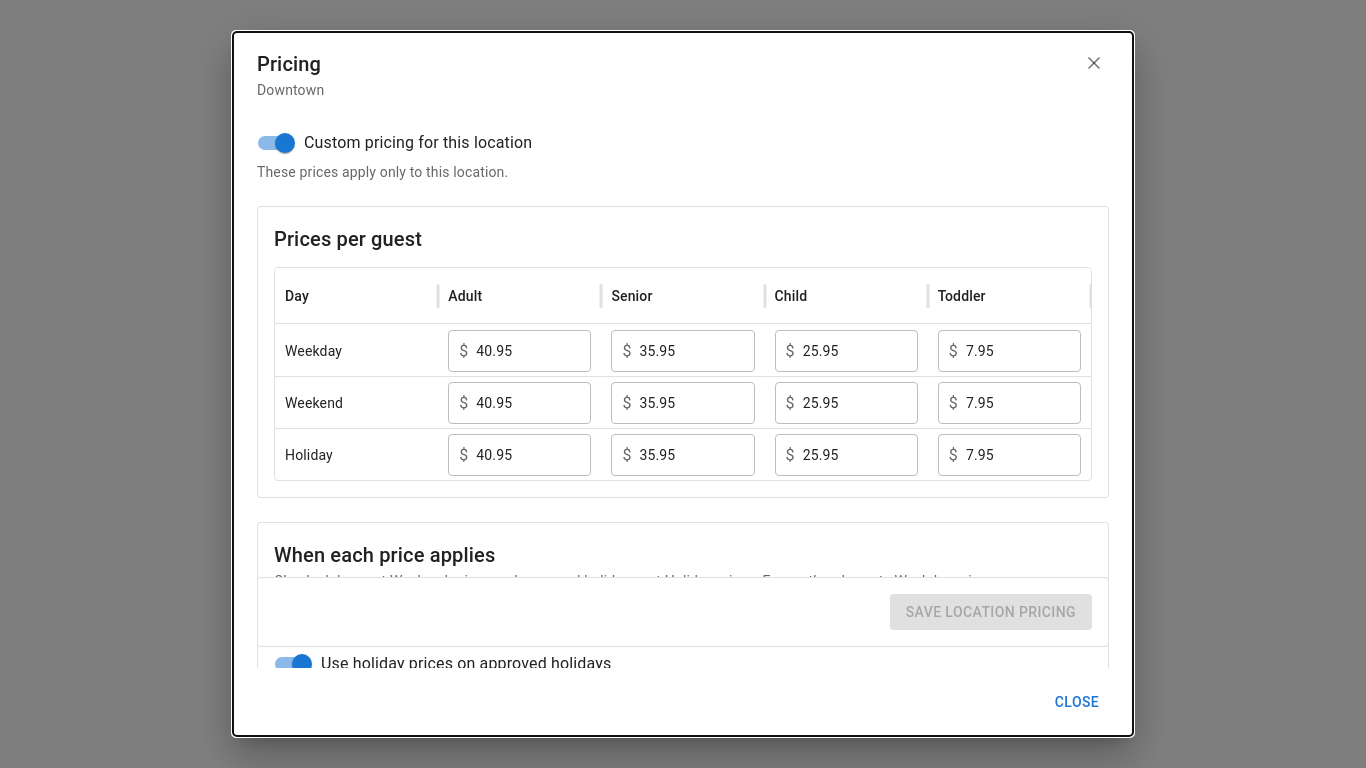
Test case: LocationPricingDialog › switching off saved custom pricing asks first, then goes back to the default
This screenshot has width=1366, height=768.
Check: the number field named "Weekday Adult price" is shown, box [476, 340, 580, 361]
Click the switch labelled "Custom pricing for this location": (395, 143) [258, 133, 532, 153]
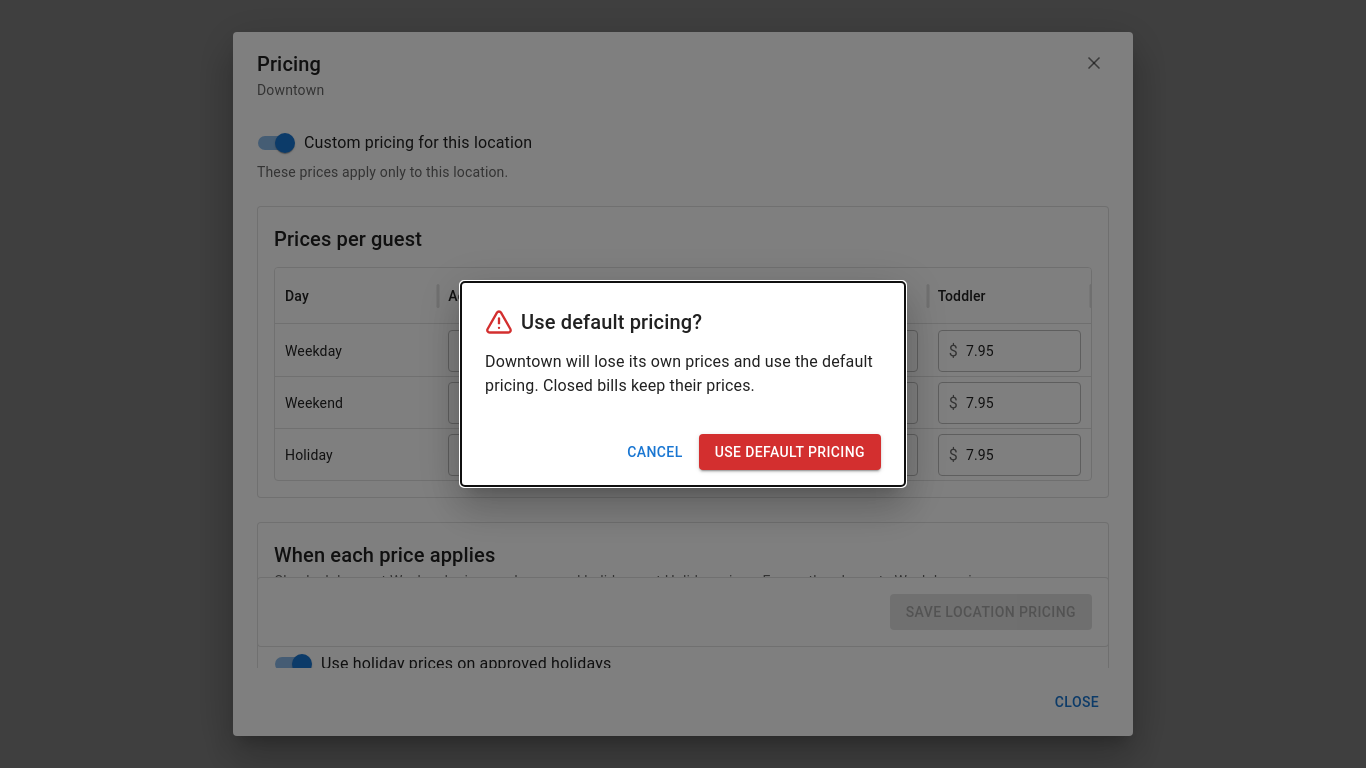
Click the button "Use default pricing": (790, 452) [699, 434, 881, 470]
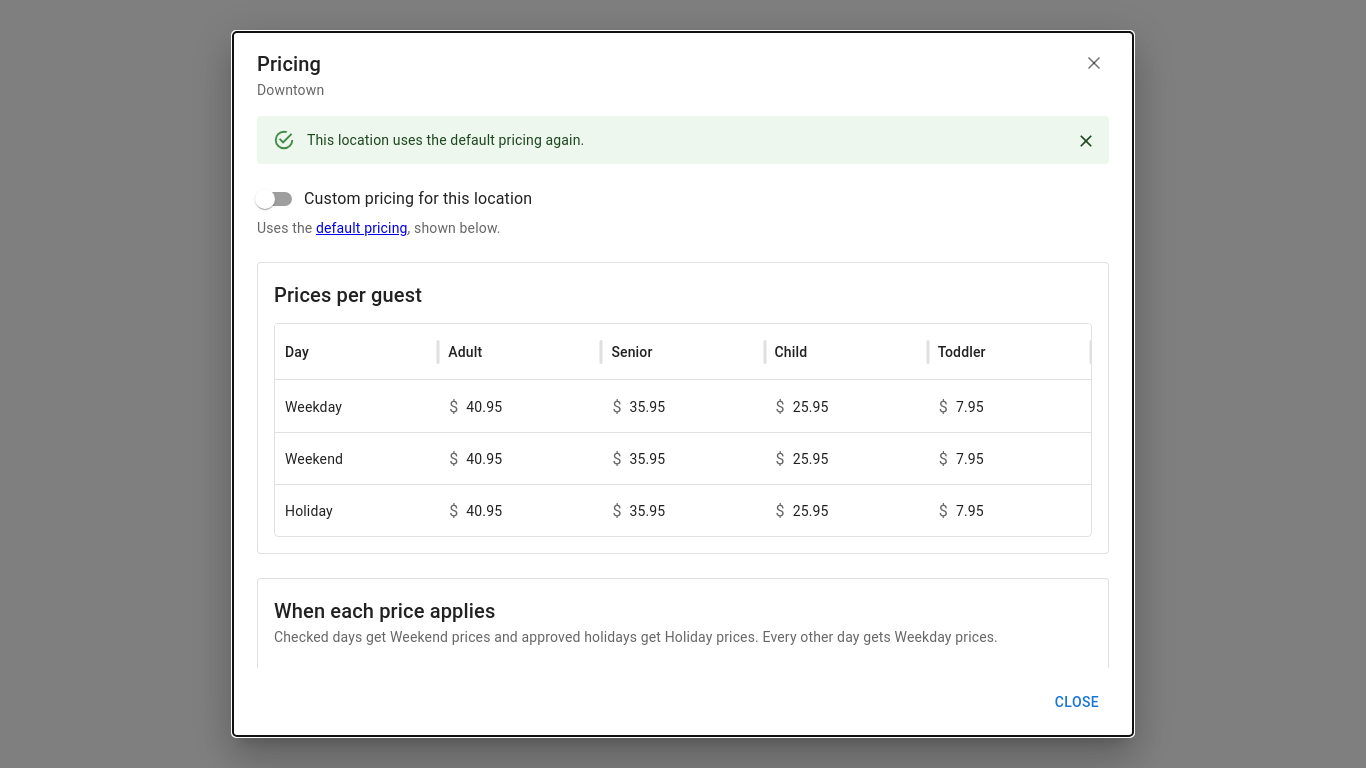
Check: the text "This location uses the default pricing again." is shown, box [307, 132, 584, 148]
